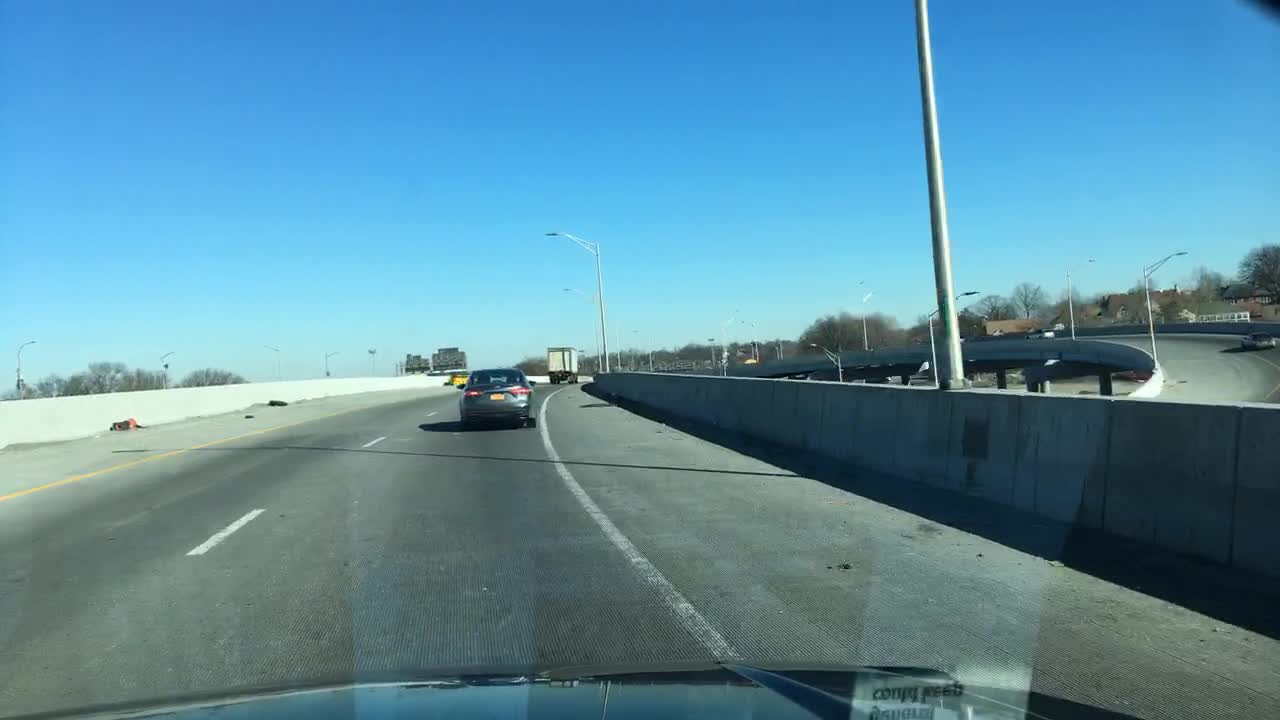car: (457, 366, 535, 426), (1243, 330, 1277, 348), (1028, 325, 1055, 340), (447, 371, 467, 386), (739, 356, 758, 365)
truck: (546, 347, 576, 380)
